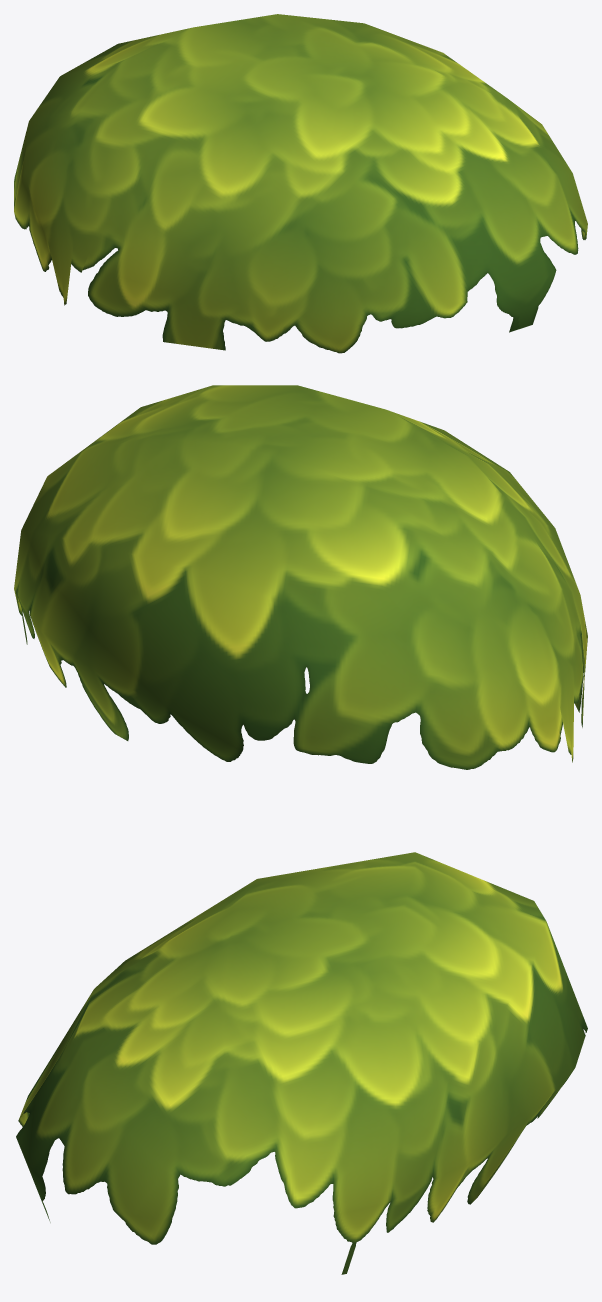
The model's file is SM_bush_00.fbx.
The picture shows the model from 3 angles, top to bottom: view 1: azimuth 30°, elevation 25°; view 2: azimuth 150°, elevation 25°; view 3: azimuth 270°, elevation 25°; orthographic projection. The views are drawn at different scales.
Parts seen in each view (by area): view 1: SM_bush_00; view 2: SM_bush_00; view 3: SM_bush_00.
Part boxes in pixels (x1,y1,x2,y2): SM_bush_00: (14,14,587,353); SM_bush_00: (14,385,587,769); SM_bush_00: (16,852,587,1274).
Size of the model in its own units: 15.54 by 7.28 by 14.78.
